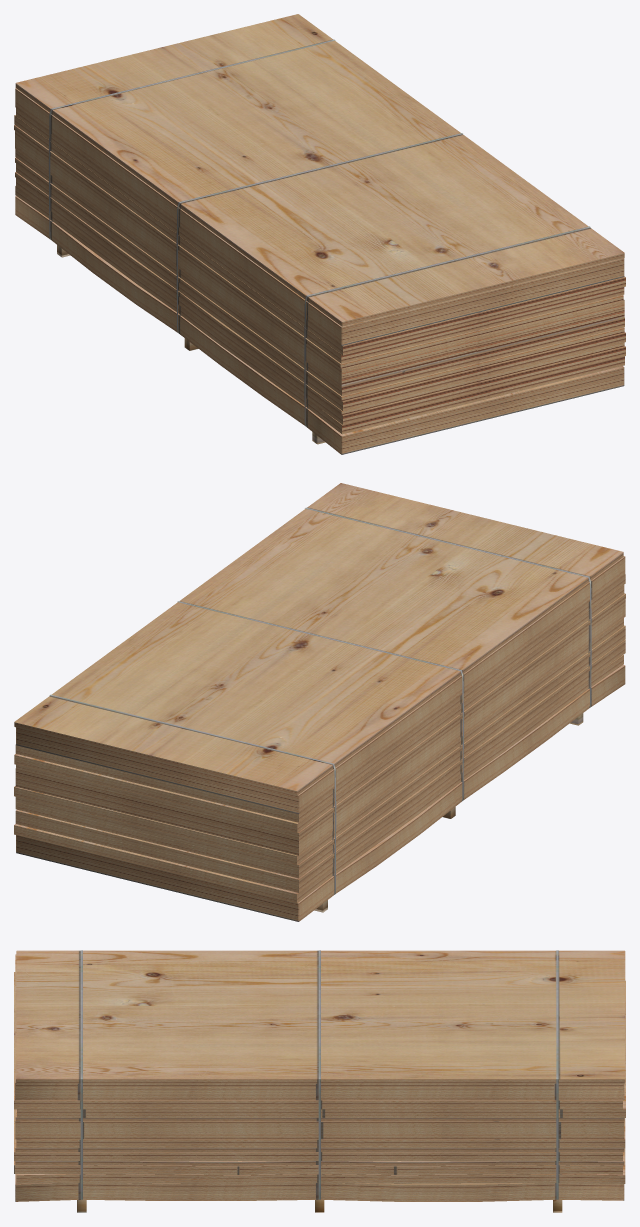
File: Plywood.glb
3 renders of one model, top to bottom at view 1: azimuth 30°, elevation 25°; view 2: azimuth 150°, elevation 25°; view 3: azimuth 270°, elevation 25°, orthographic. The views are drawn at different scales.
Visible parts, largest first — view 1: Plywood; view 2: Plywood; view 3: Plywood.
Part boxes in pixels (bbox=[...]): Plywood: bbox=[14, 14, 625, 454]; Plywood: bbox=[14, 483, 625, 921]; Plywood: bbox=[14, 950, 625, 1212].
Size of the model in its own units: 2.3 by 1.14 by 4.58.
1 material, 1 textured.
